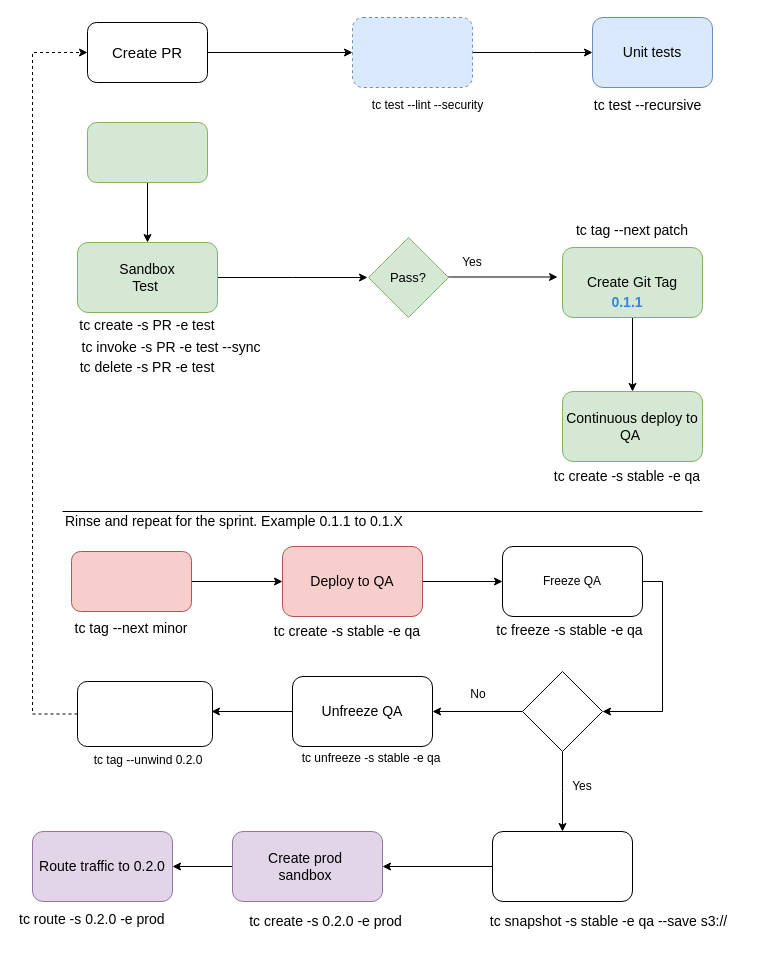
Image size: 770x962. Some labels were removed from this diagram. Here are the shapes that lost their labels. From the top down, the box of each, then its label:
(352, 16, 472, 88): Lint and security checks
(86, 122, 208, 182): PR/branch Merge
(70, 550, 192, 612): Release 0.2.0
(76, 680, 212, 746): Unwind tag
(522, 670, 602, 752): Test Pass ?
(492, 830, 632, 902): Snapshot
